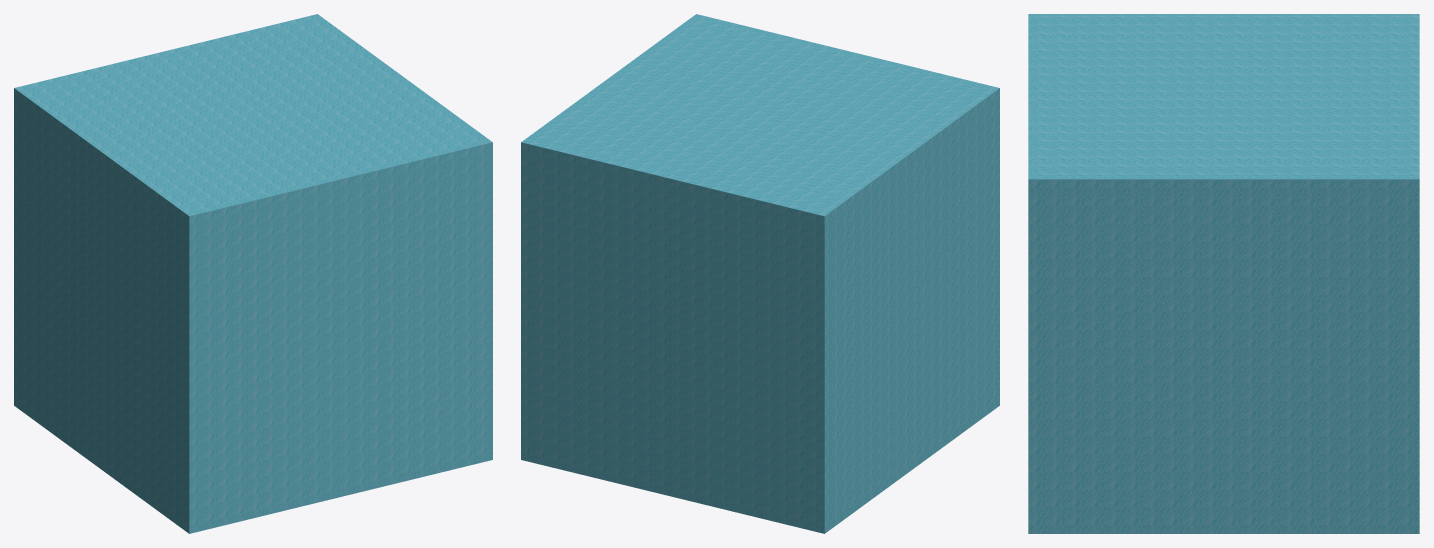
Rendered from FieldCube.FBX.
The picture shows the model from 3 angles, left to right: view 1: azimuth 30°, elevation 25°; view 2: azimuth 150°, elevation 25°; view 3: azimuth 270°, elevation 25°; orthographic projection. The views are drawn at different scales.
Visible parts, largest first — view 1: Box001; view 2: Box001; view 3: Box001.
Part boxes in pixels (x1,y1,x2,y2): Box001: (14, 14, 492, 533); Box001: (521, 14, 999, 533); Box001: (1028, 14, 1419, 533).
Size of the model in its own units: 100 by 100 by 100.
Materials: 1 (1 with a texture image).
